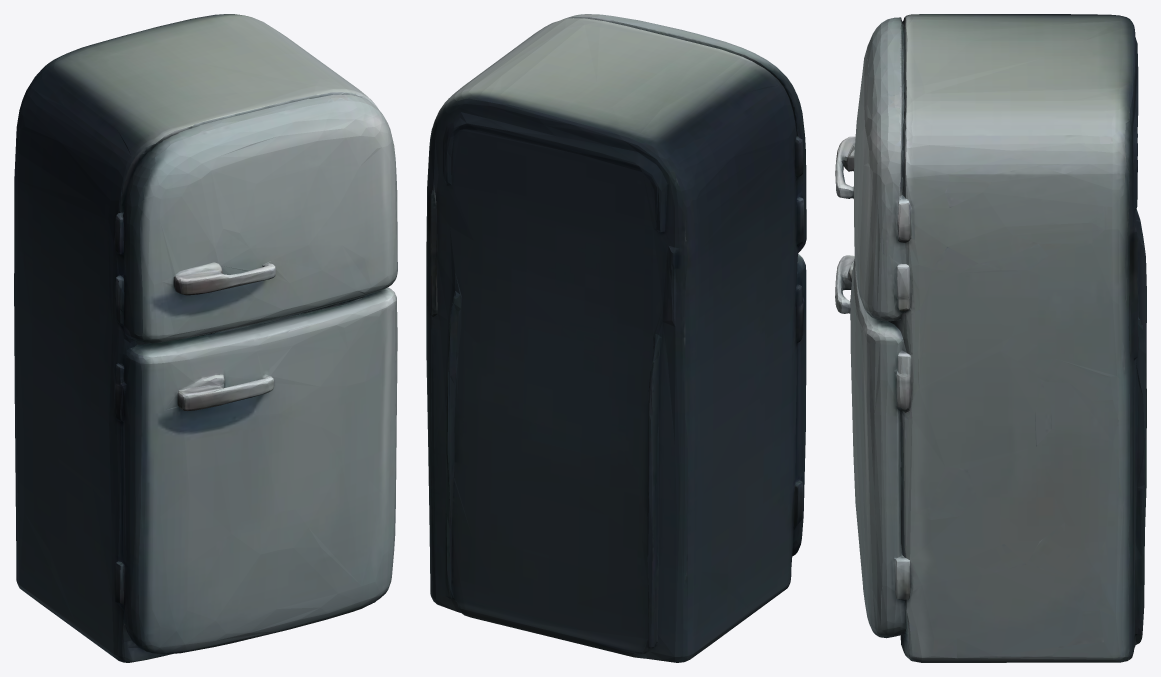
The model's file is fridge.glb.
The picture shows the model from 3 angles, left to right: view 1: azimuth 30°, elevation 25°; view 2: azimuth 150°, elevation 25°; view 3: azimuth 270°, elevation 25°; orthographic projection. The views are drawn at different scales.
Visible parts, largest first — view 1: geometry_0; view 2: geometry_0; view 3: geometry_0.
Part boxes in pixels (box(x1,y1,x2,y2)): geometry_0: box(14, 14, 397, 662); geometry_0: box(426, 14, 806, 662); geometry_0: box(835, 14, 1146, 662).
Bounding box in the file's own units: 0.5511 × 0.9998 × 0.5201.
Materials: 1 (1 with a texture image).
